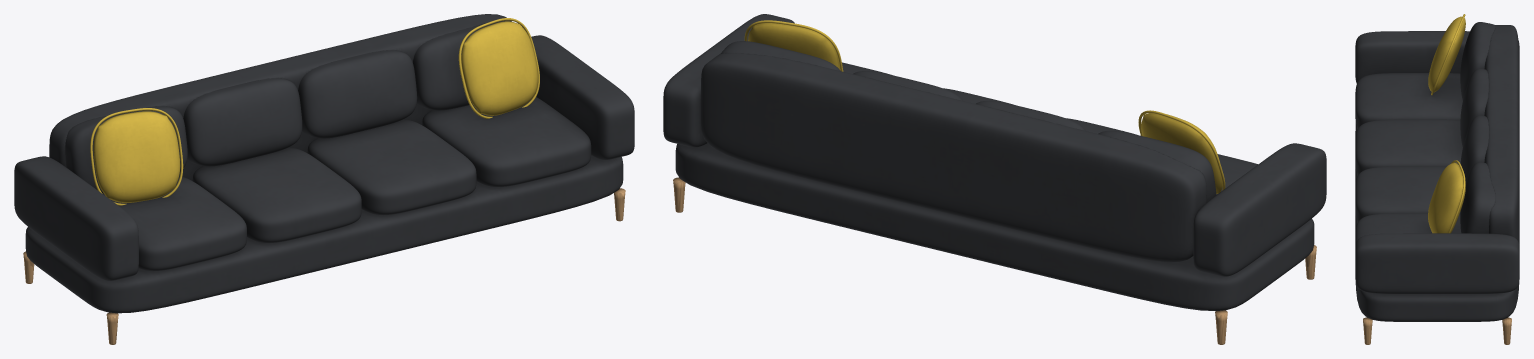
The model's file is four-seat-charcoal.glb.
3 views of the same model, side by side, from view 1: azimuth 30°, elevation 25°; view 2: azimuth 150°, elevation 25°; view 3: azimuth 270°, elevation 25° (orthographic). The views are drawn at different scales.
Parts seen in each view (by area): view 1: fabric_primary, fabric_secondary, wood_legs; view 2: fabric_primary, fabric_secondary, wood_legs; view 3: fabric_primary, fabric_secondary, wood_legs.
Boxes of the visible parts, <box> form: fabric_primary: <box>14,14,634,313</box>; fabric_secondary: <box>90,18,539,205</box>; wood_legs: <box>23,188,625,344</box>; fabric_primary: <box>663,14,1326,310</box>; fabric_secondary: <box>744,20,1225,193</box>; wood_legs: <box>673,177,1316,344</box>; fabric_primary: <box>1355,22,1519,321</box>; fabric_secondary: <box>1428,14,1465,233</box>; wood_legs: <box>1363,317,1511,344</box>.
Size of the model in its own units: 2.88 by 0.9014 by 0.9199.
Materials: 3 (3 with a texture image).
